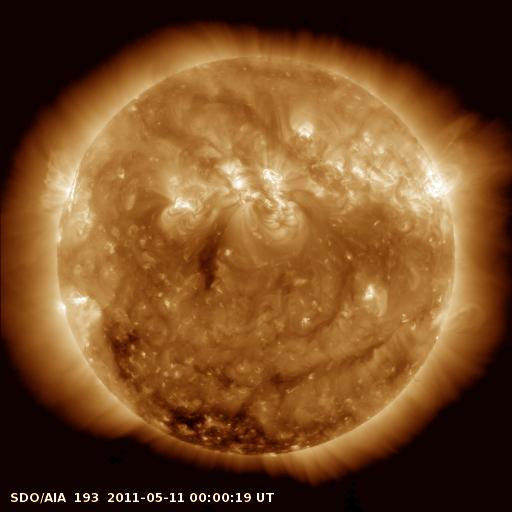coronal_hole: (163, 412, 313, 456), (196, 221, 229, 297), (102, 322, 142, 383)
